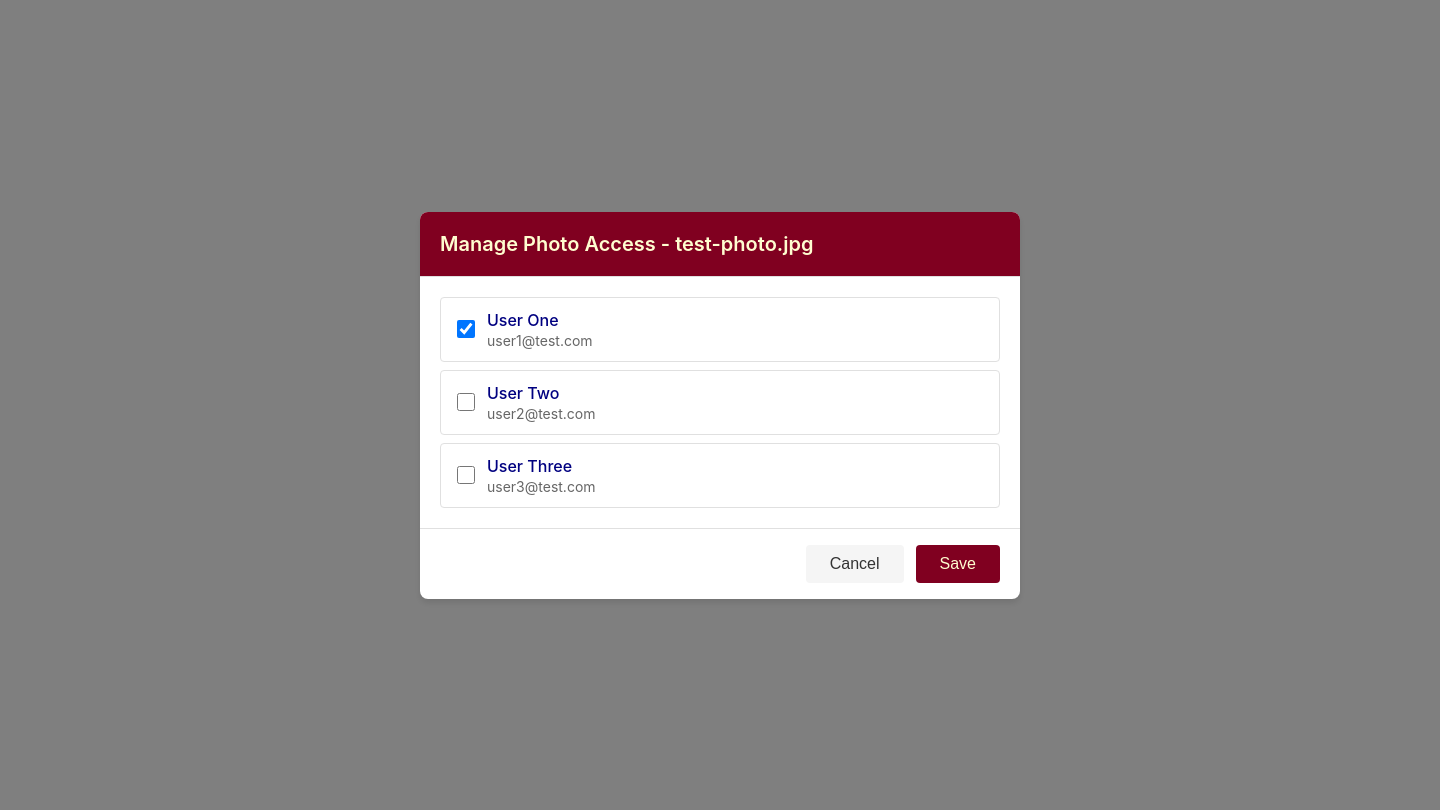
Test: UserAccessDialog Component › displays error when save fails
The width and height of the screenshot is (1440, 810).
expect the checkbox with test id "checkbox-1" is checked: met, box [457,320,475,338]
Note: Click save
What coordinates should you click on to do the following:
click the button with test id "save-button"
I would click on:
 (958, 564)
Its box is [916,544,1000,582].
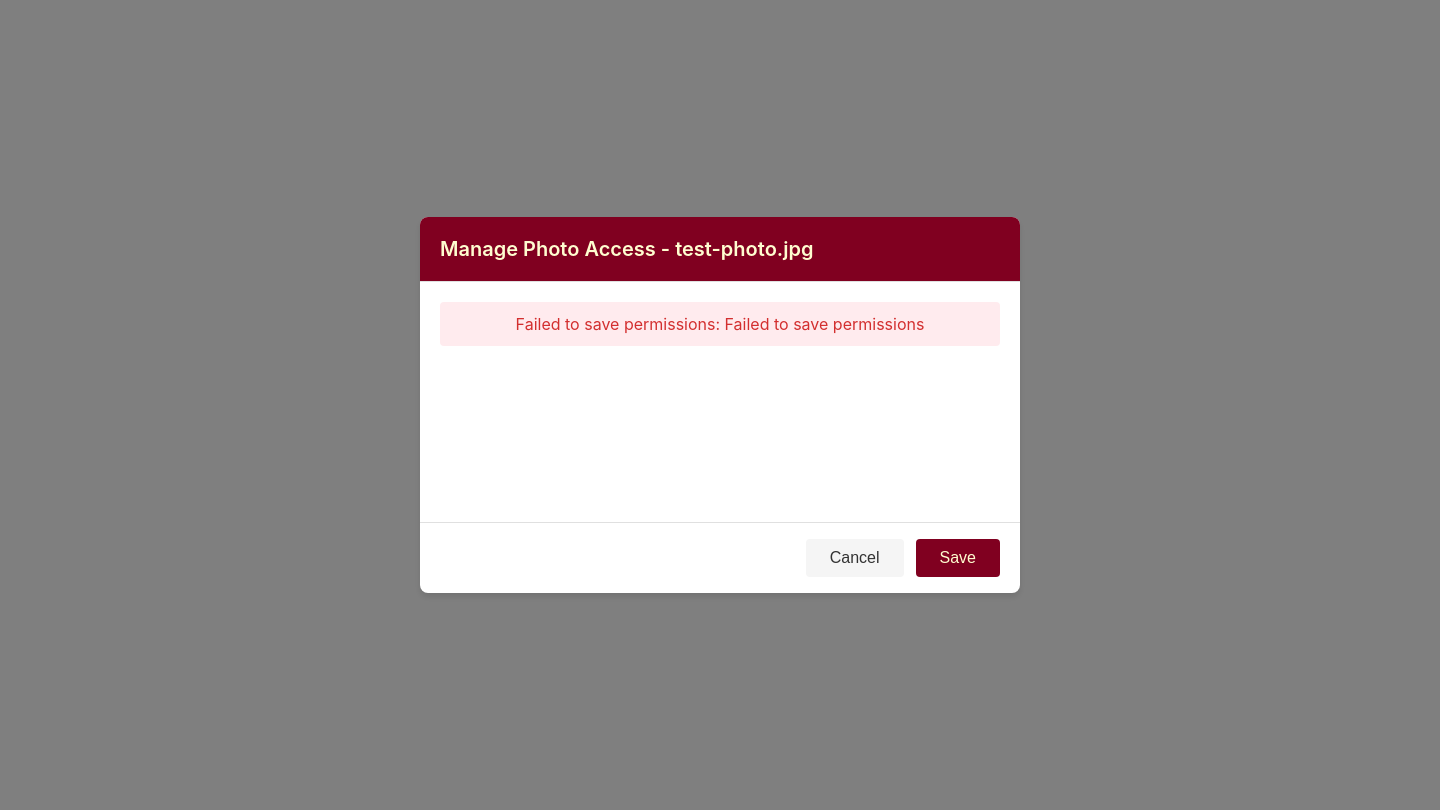
expect the text "Failed to save permissions: Failed to save permissions" is shown: met, box [440,302,1000,346]
